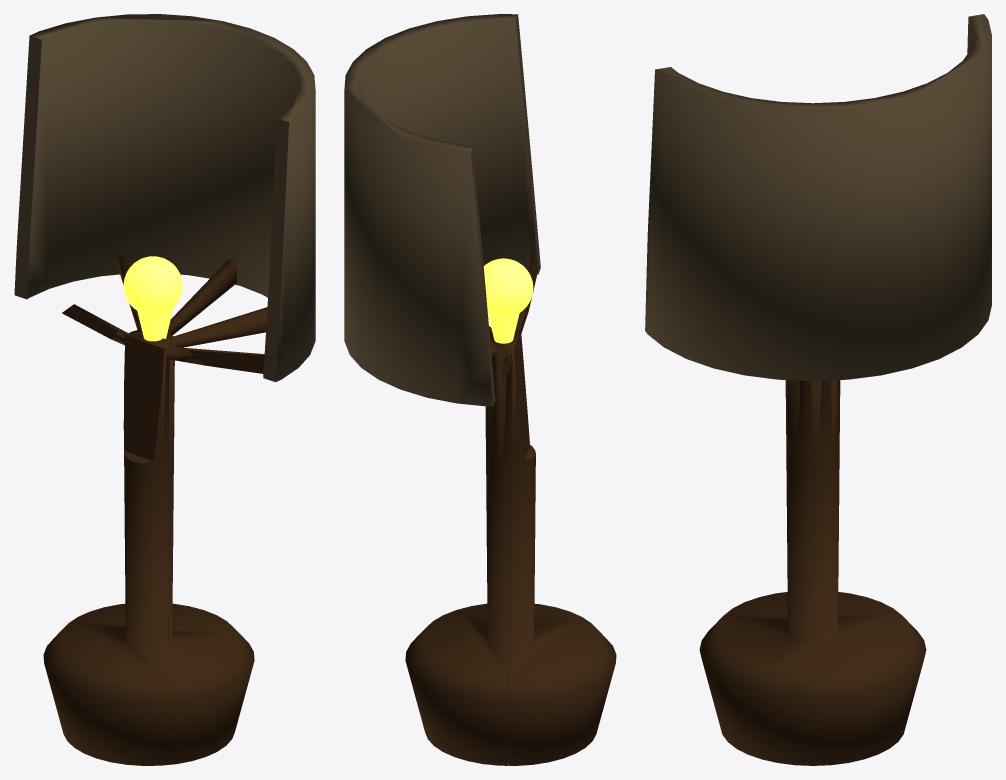
File: Lampa.fbx
The picture shows the model from 3 angles, left to right: view 1: azimuth 30°, elevation 25°; view 2: azimuth 150°, elevation 25°; view 3: azimuth 270°, elevation 25°; orthographic projection. The views are drawn at different scales.
Visible parts, largest first — view 1: Cylinder_cell.003, Cylinder_cell, Cylinder_cell.005, Cylinder_cell.002, Sphere; view 2: Cylinder_cell.003, Cylinder_cell, Cylinder_cell.002, Cylinder_cell.005, Sphere; view 3: Cylinder_cell.003, Cylinder_cell.002, Cylinder_cell, Cylinder_cell.005.
Part boxes in pixels (box(x1,y1,x2,y2)): Cylinder_cell.003: box(14, 14, 315, 382); Cylinder_cell: box(43, 451, 238, 765); Cylinder_cell.005: box(62, 253, 272, 465); Cylinder_cell.002: box(73, 465, 254, 748); Sphere: box(123, 256, 182, 341); Cylinder_cell.003: box(344, 14, 540, 406); Cylinder_cell: box(507, 445, 616, 765); Cylinder_cell.002: box(405, 467, 510, 765); Cylinder_cell.005: box(485, 251, 538, 470); Sphere: box(483, 258, 533, 343); Cylinder_cell.003: box(645, 14, 991, 380); Cylinder_cell.002: box(713, 441, 926, 765); Cylinder_cell: box(699, 432, 897, 744); Cylinder_cell.005: box(785, 380, 840, 456).
Bounding box in the file's own units: 134 × 349 × 158.
